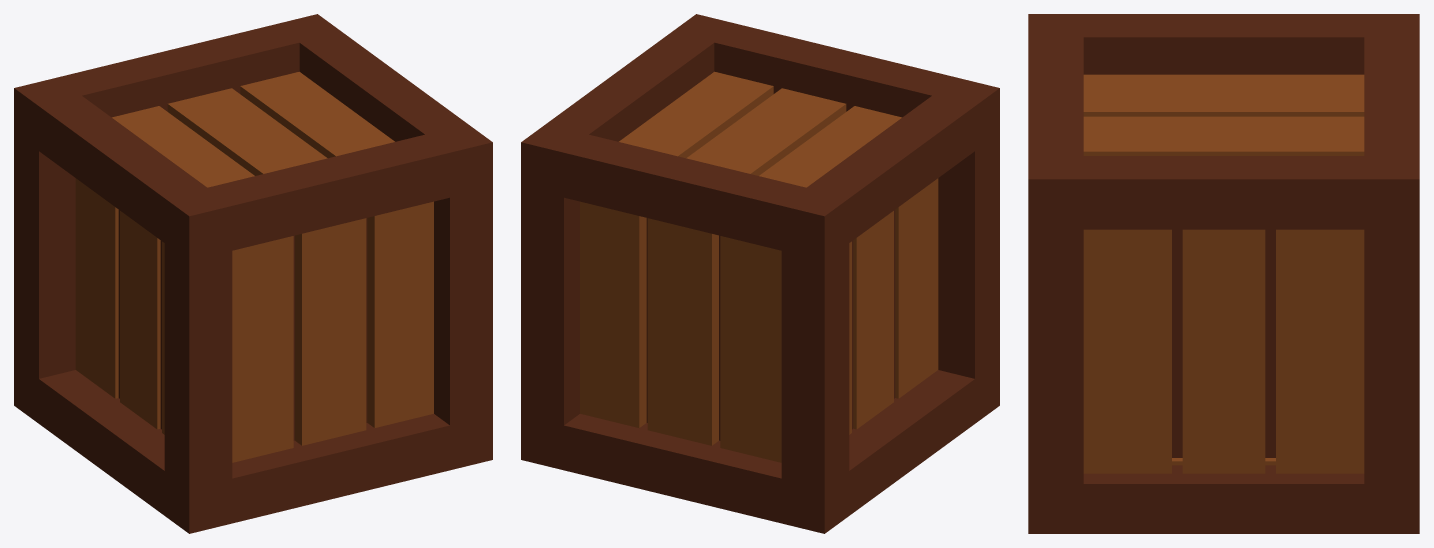
The picture shows the model from 3 angles, left to right: view 1: azimuth 30°, elevation 25°; view 2: azimuth 150°, elevation 25°; view 3: azimuth 270°, elevation 25°; orthographic projection. The views are drawn at different scales.
Parts seen in each view (by area): view 1: Cube, Cube.002, Cube.003, Cube.001; view 2: Cube, Cube.002, Cube.003, Cube.001; view 3: Cube, Cube.001, Cube.003.
Boxes of the visible parts, x1,y1,x2,y2 form: Cube: (14, 14, 492, 533); Cube.002: (232, 201, 433, 462); Cube.003: (112, 71, 394, 187); Cube.001: (75, 178, 164, 434); Cube: (521, 14, 999, 533); Cube.002: (580, 201, 781, 462); Cube.003: (619, 71, 901, 187); Cube.001: (849, 178, 938, 434); Cube: (1028, 14, 1419, 533); Cube.001: (1083, 229, 1364, 473); Cube.003: (1083, 74, 1364, 465).
Size of the model in its own units: 200 by 200 by 200.
